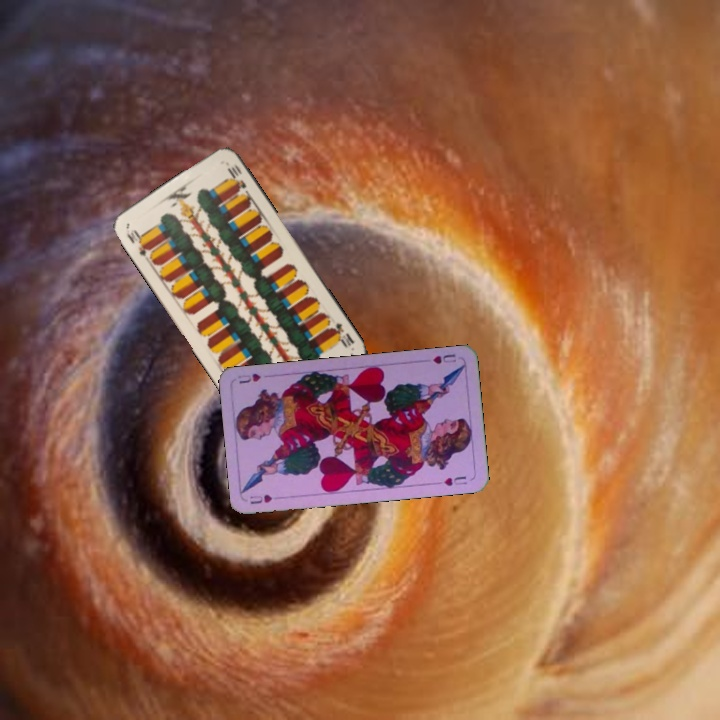E10: (122, 225, 155, 261), (327, 319, 357, 351)
HU: (246, 491, 285, 507), (429, 350, 459, 366)
